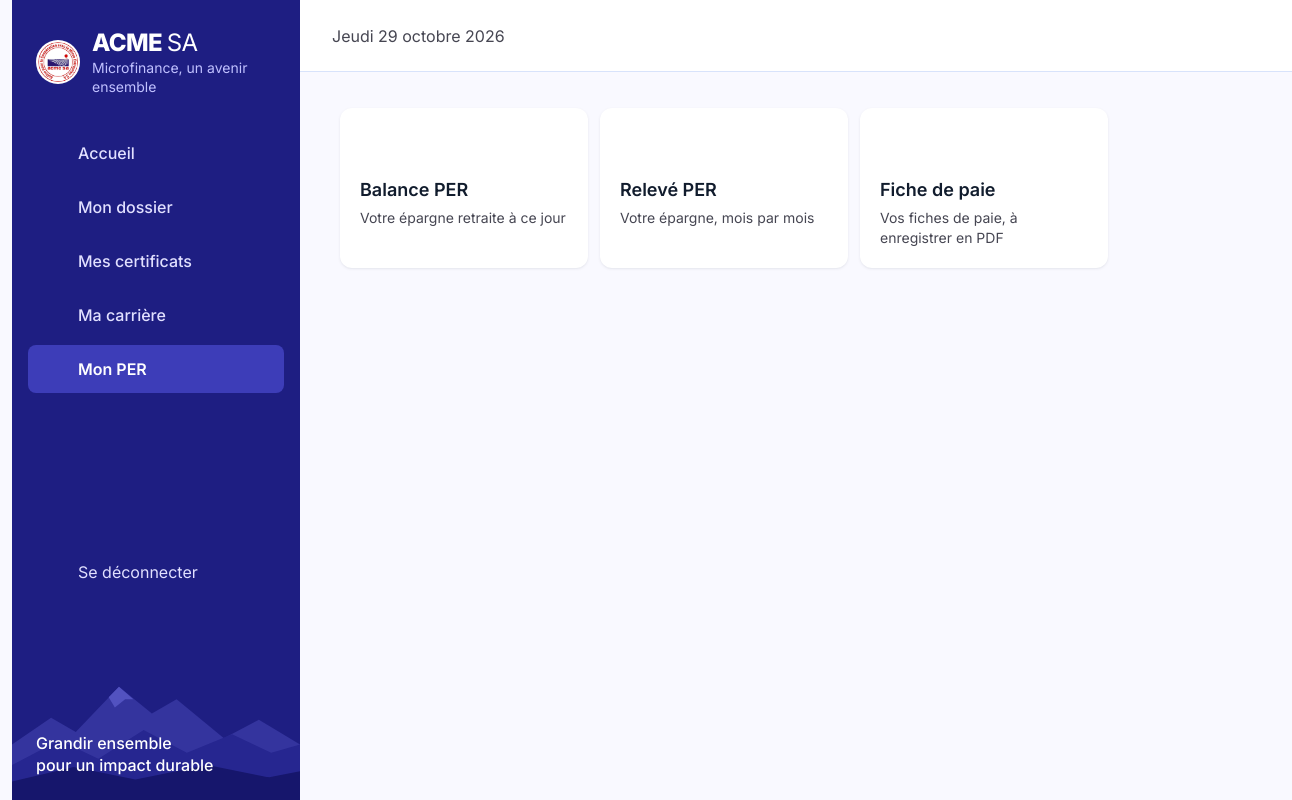
US-1023 — le menu de « Mon PER » › CA-01 : trois choix ; chacun ouvre sa page, « Menu principal » ramène au menu
Click the link "Balance PER Votre épargne retraite à ce jour".
click(464, 188)  # box [340,108,588,268]
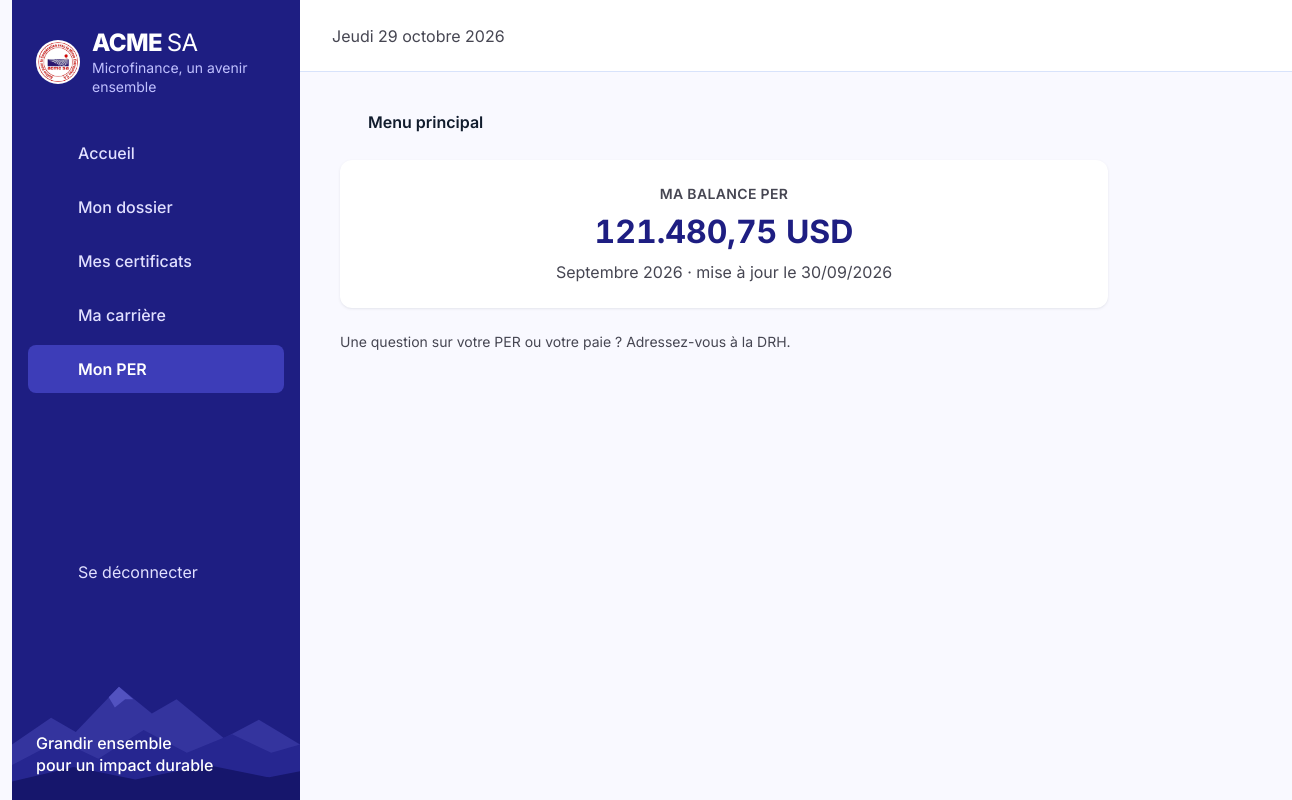
Click the link "Menu principal".
click(412, 122)  # box [340,100,483,144]
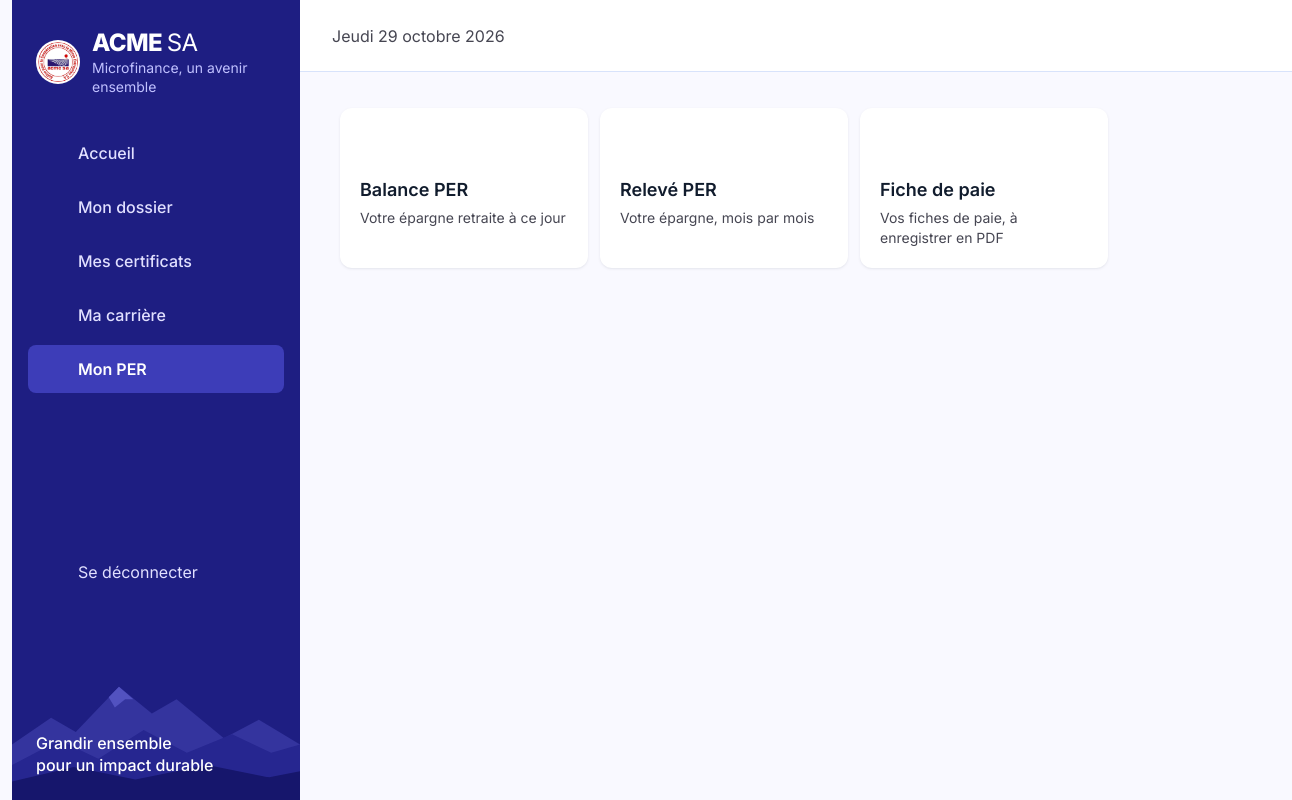
Expected: the list named "Documents du PER" is shown, [340,108,1108,268]
